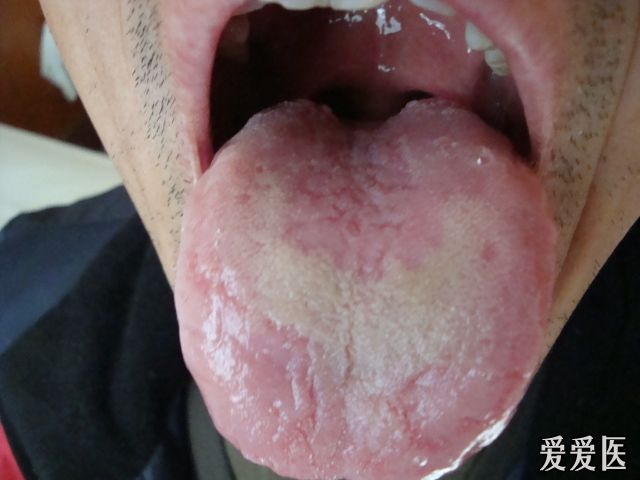baitaishe: (176, 98, 558, 480)
botaishe: (234, 241, 384, 339)
liewenshe: (293, 349, 331, 472), (342, 321, 362, 390)
shenquao: (288, 98, 460, 142)
